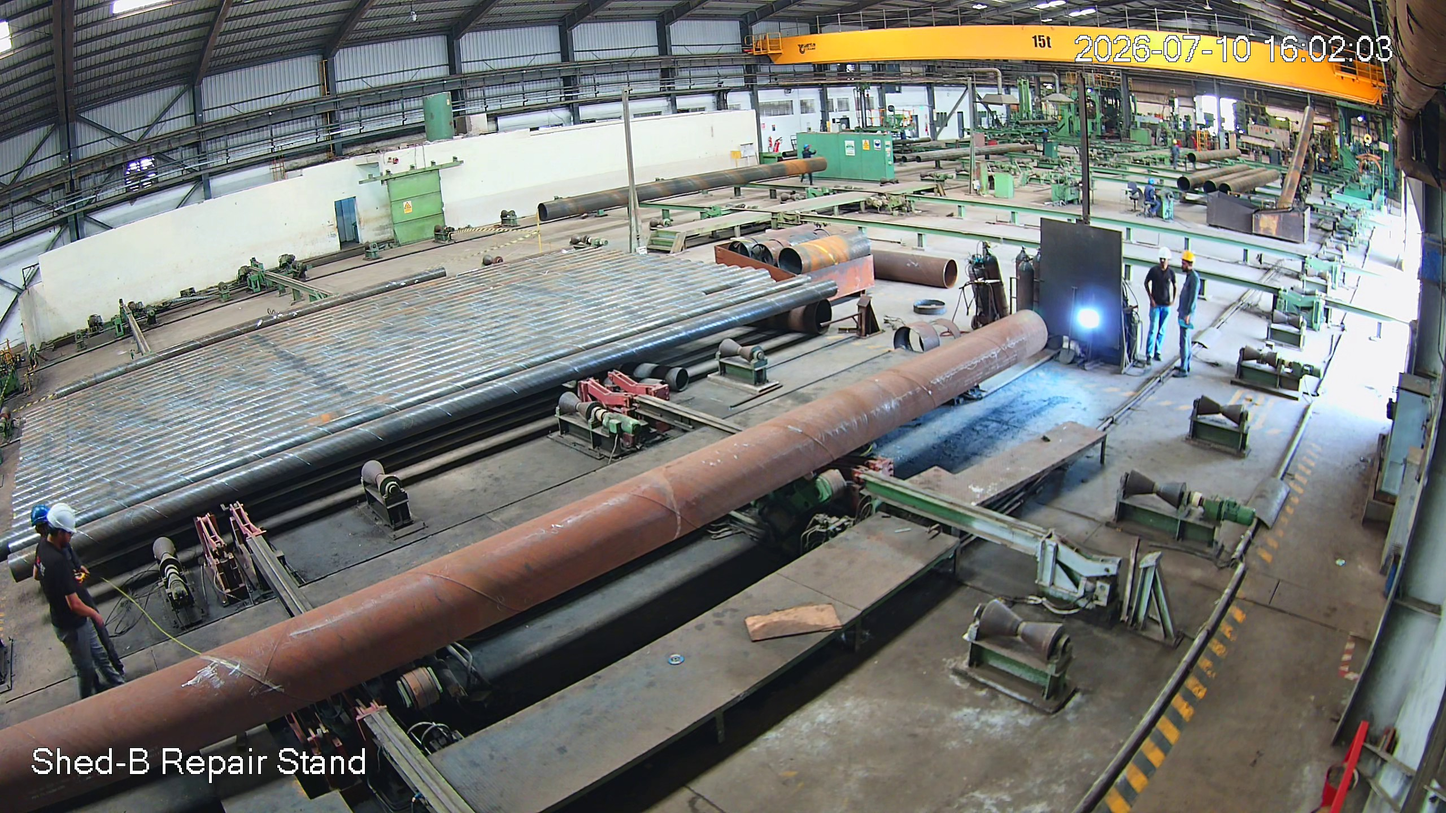Helmet: (43, 492, 91, 550), (1152, 242, 1176, 275), (1179, 247, 1201, 281)
Person: (31, 508, 124, 704), (1143, 247, 1176, 367), (1178, 250, 1204, 377)
